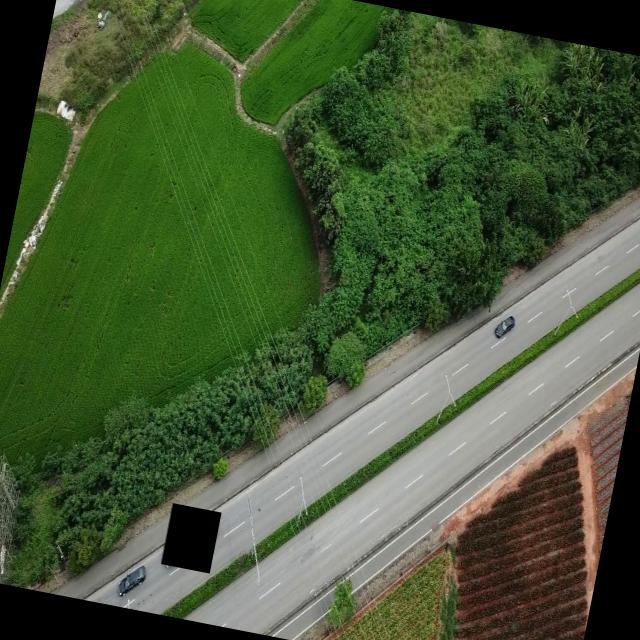car: (116, 562, 148, 598), (493, 313, 515, 340)
